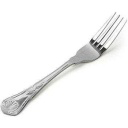Fork: (3, 9, 128, 117)
